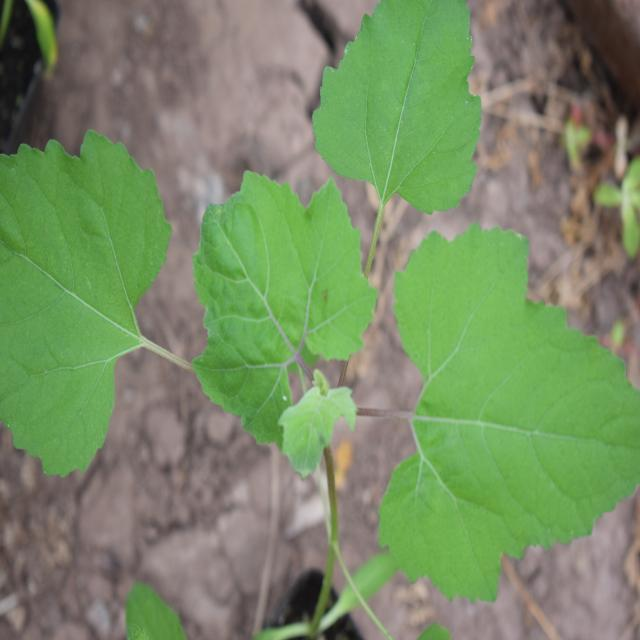cocklebur: (0, 30, 618, 574)
